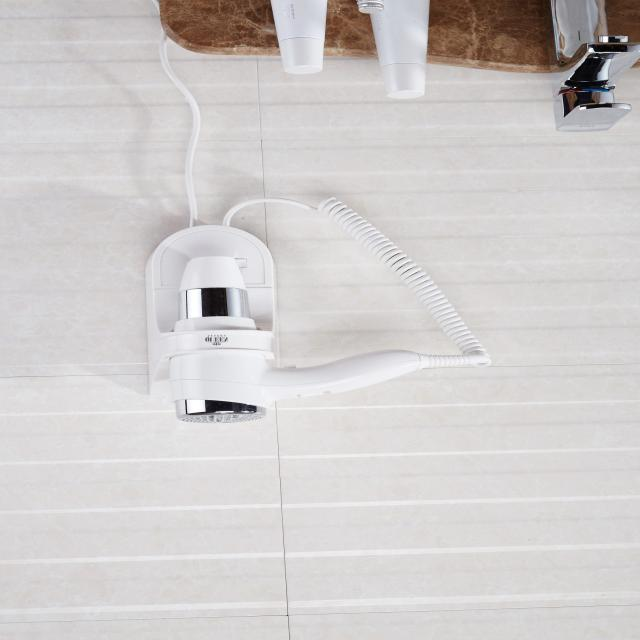dryer: (112, 175, 524, 448)
